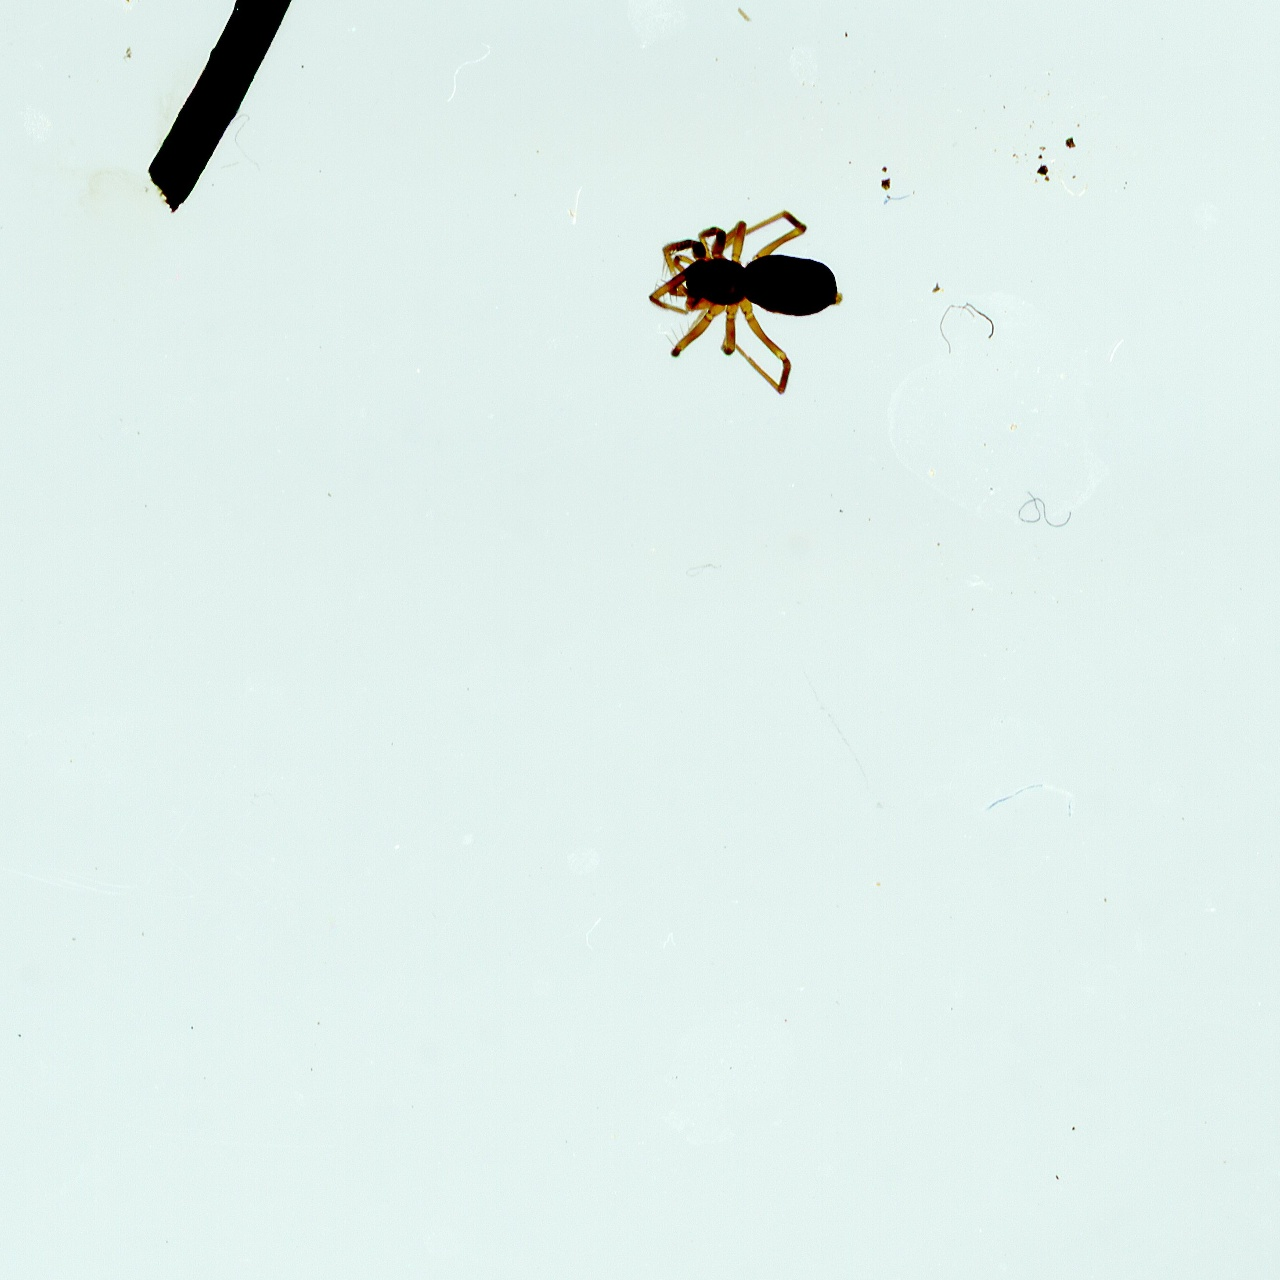arthropod: (631, 165, 856, 402)
